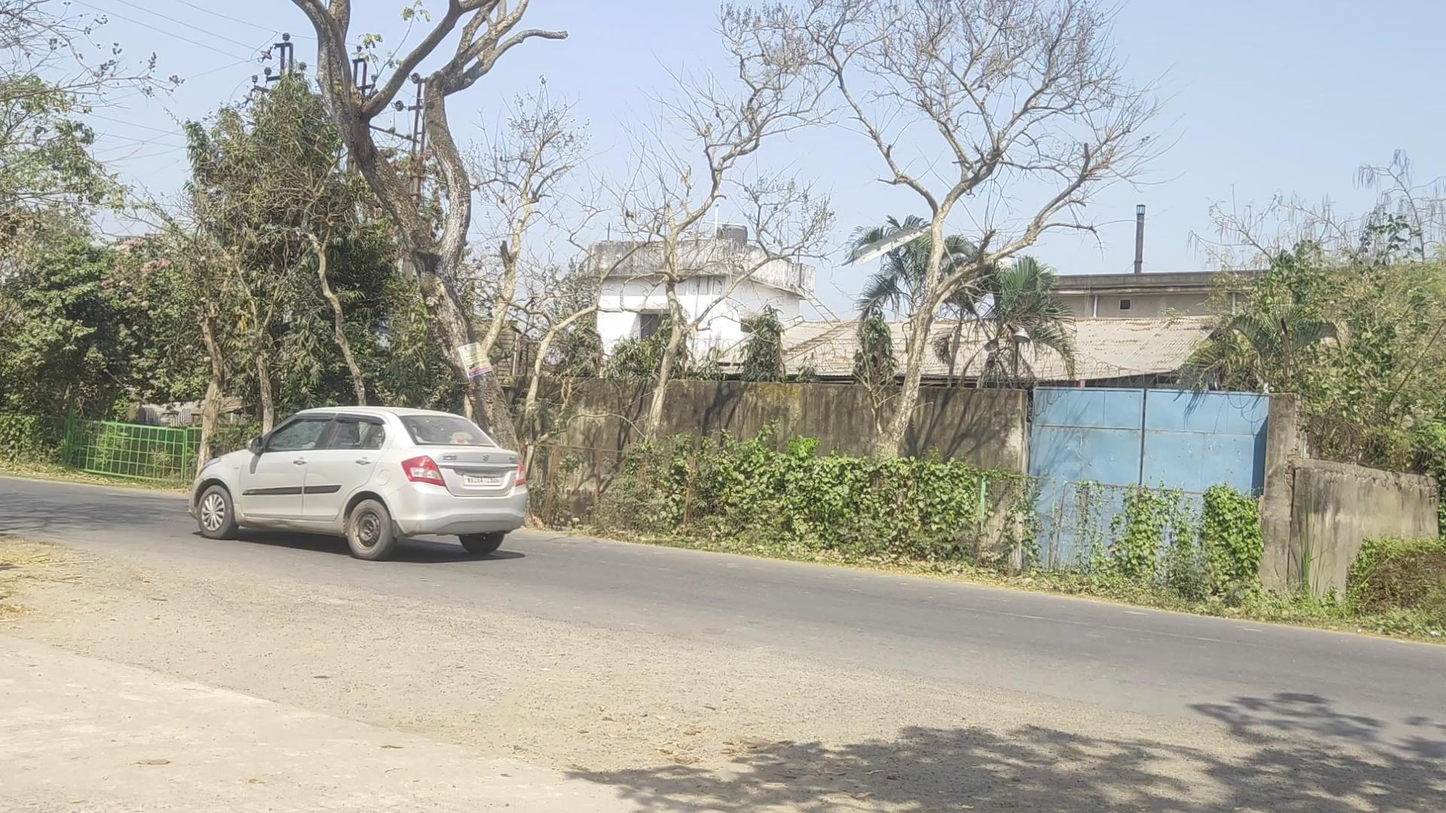car: (188, 405, 529, 561)
